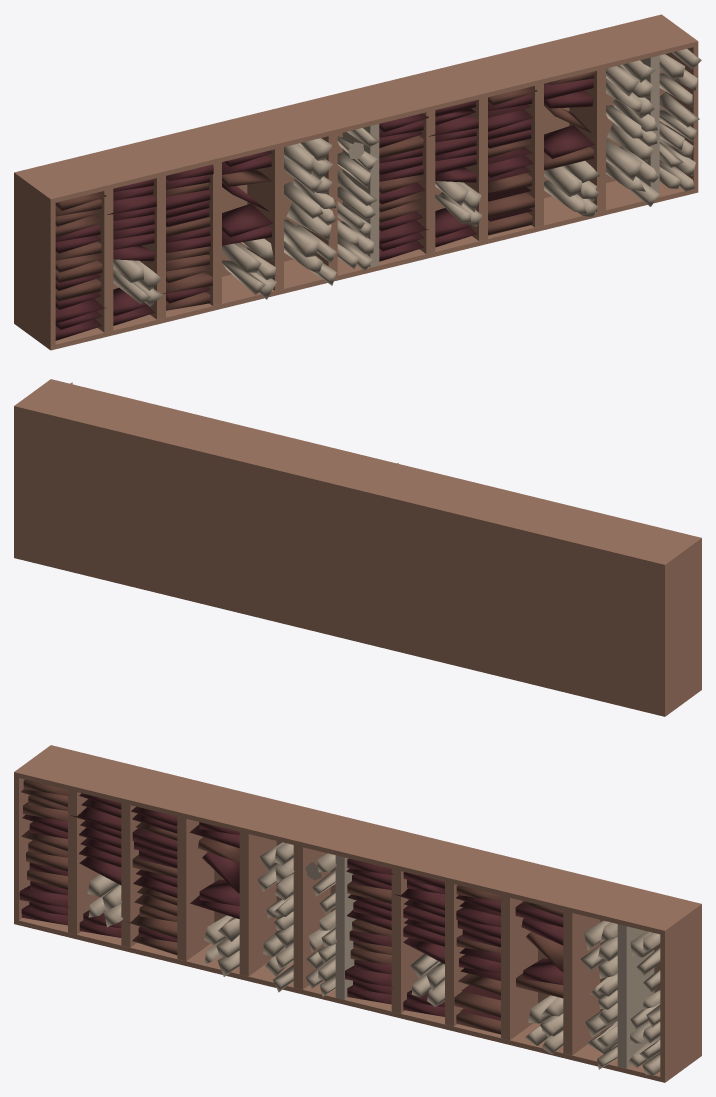
The model's file is FBX_Bookshelf_Stone_01.fbx.
The picture shows the model from 3 angles, top to bottom: view 1: azimuth 30°, elevation 25°; view 2: azimuth 150°, elevation 25°; view 3: azimuth 330°, elevation 25°; orthographic projection.
Parts seen in each view (by area): view 1: Cube.002; view 2: Cube.002; view 3: Cube.002.
Boxes of the visible parts, bbox=[...] form: Cube.002: bbox=[14, 14, 701, 350]; Cube.002: bbox=[14, 379, 701, 716]; Cube.002: bbox=[14, 745, 701, 1082].
Size of the model in its own units: 1.39 by 0.7616 by 6.21.
